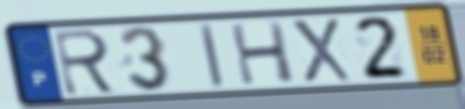2: (350, 14, 407, 81)
3: (116, 23, 175, 94)
H: (226, 20, 298, 88)
I: (197, 21, 227, 90)
R: (51, 27, 121, 98)
X: (287, 16, 355, 85)
